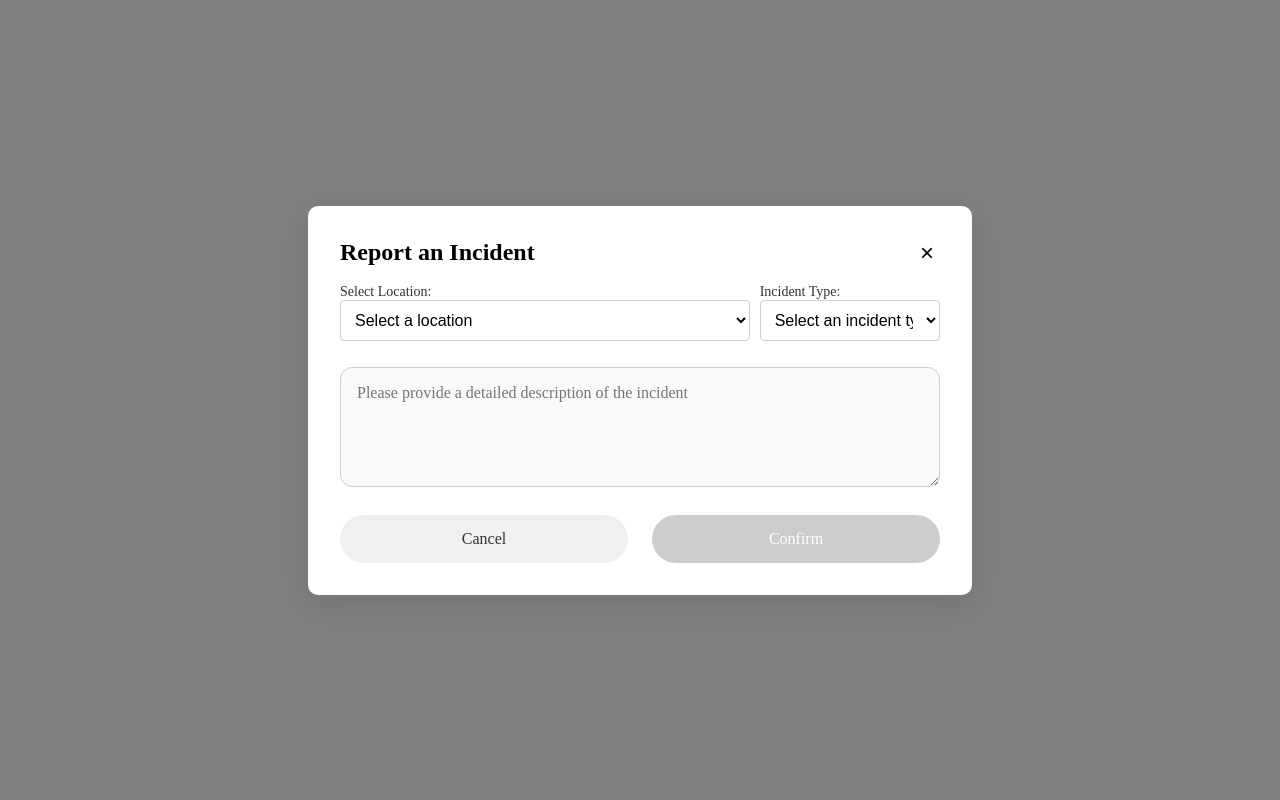
SecurityModal Component › should enable confirm button when description, location, and incident type are provided
Type "Test description" into the text box with placeholder "Please provide a detailed description of the incident" at (640, 426), box [340,366,940,486]
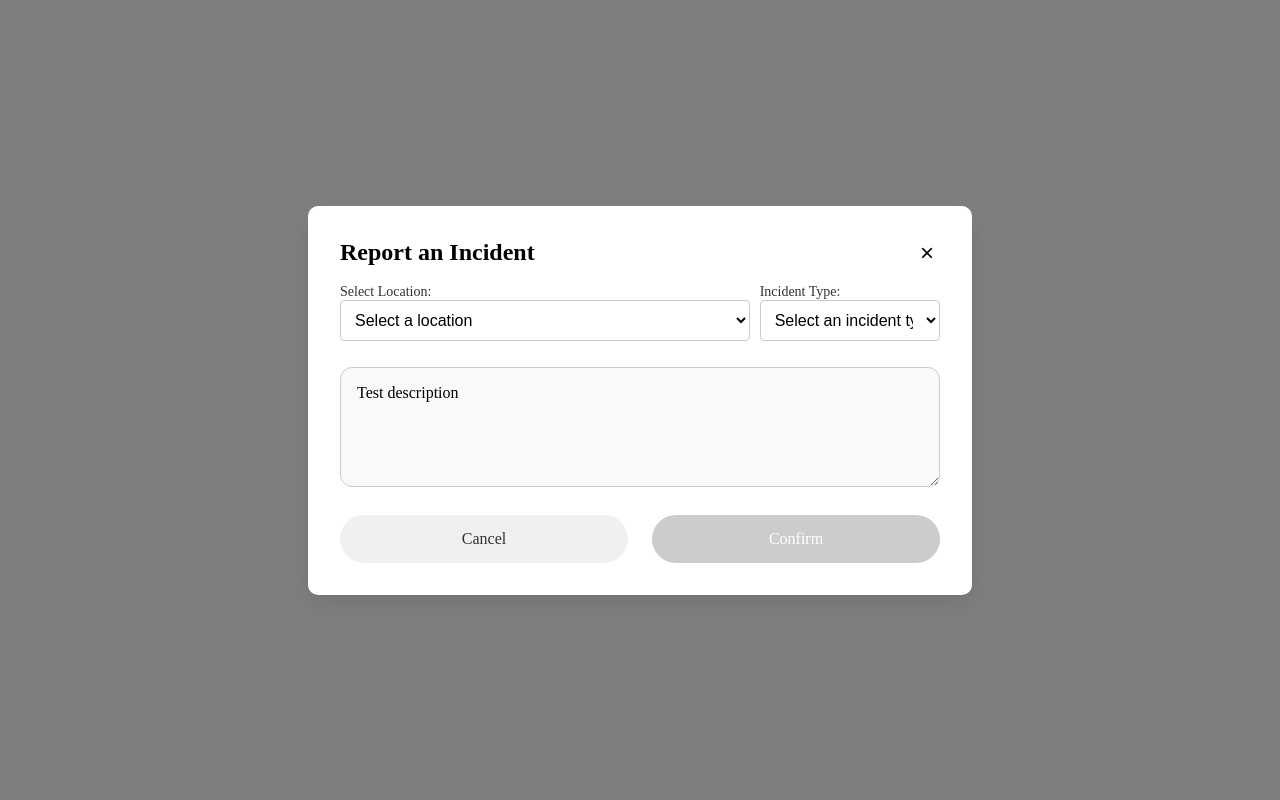
Select "TW Kambule Mathematical Sciences Building" in the dropdown labelled "Select Location:" at (545, 320), box [340,300,750,340]
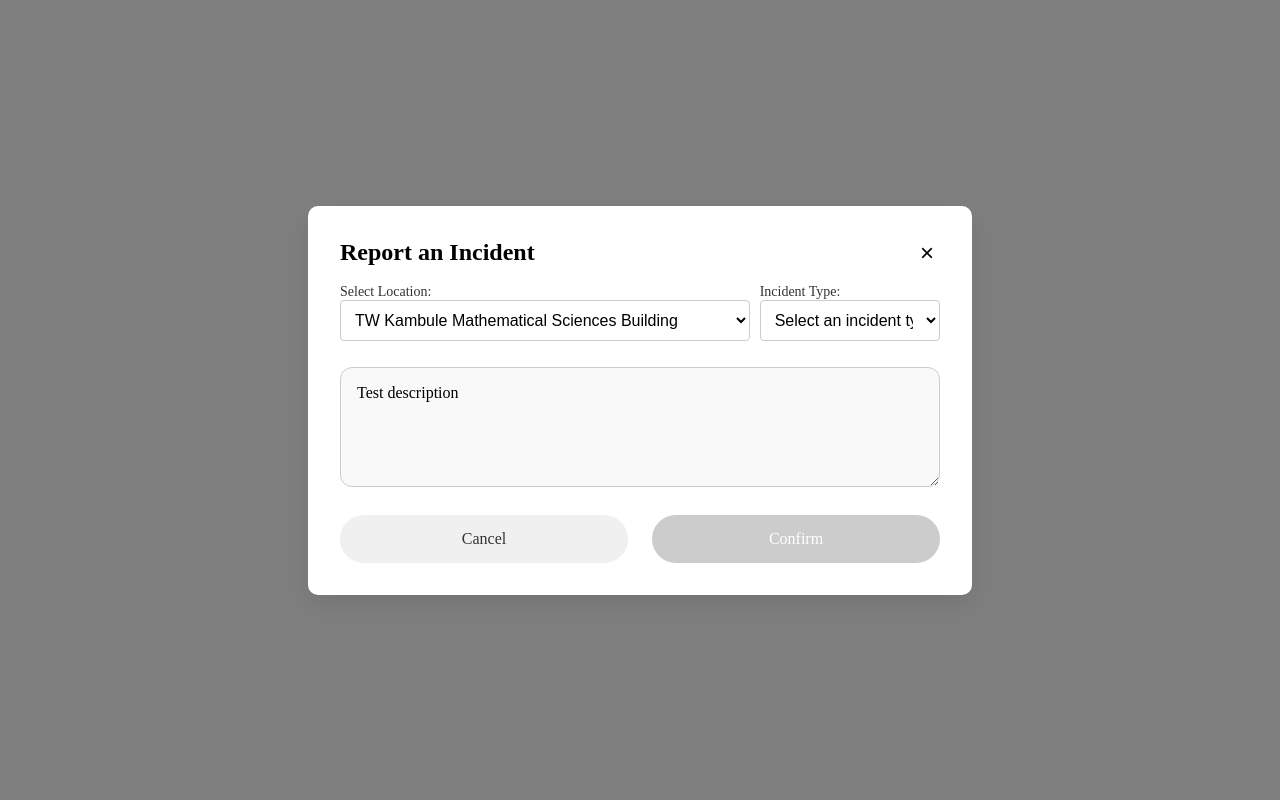
Select "fire" in the dropdown labelled "Incident Type:" at (850, 320), box [760,300,940,340]
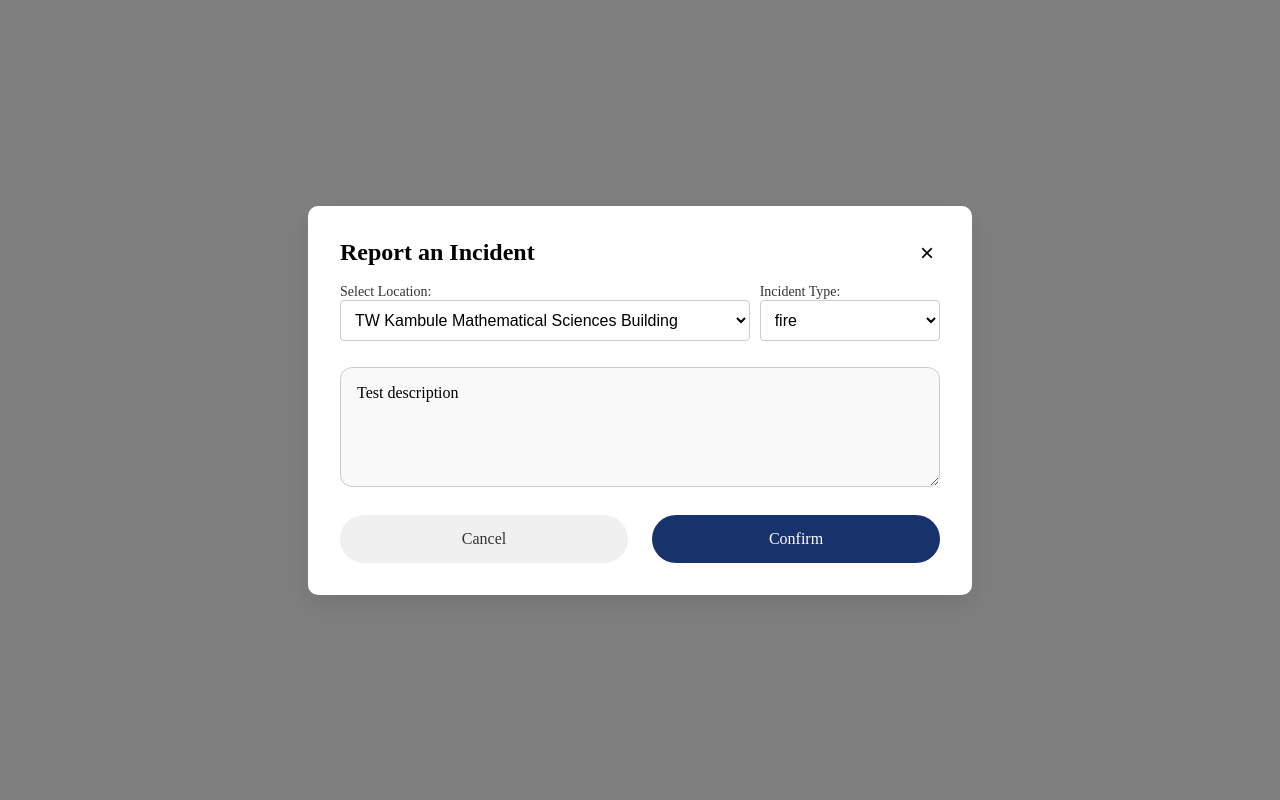
Expected: the button "Confirm" is enabled, [652,514,940,562]
